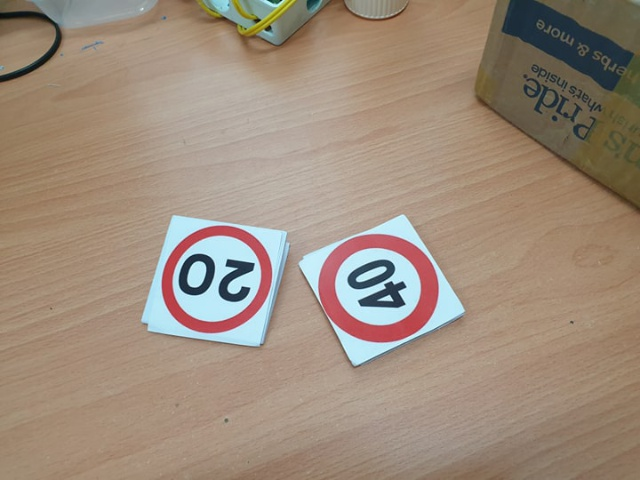Limit 20: (160, 223, 274, 334)
Limit 40: (320, 232, 440, 346)
